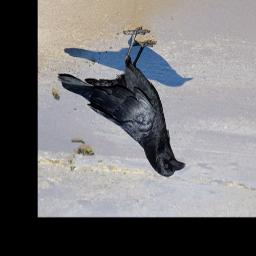Crow: (58, 26, 186, 177)
